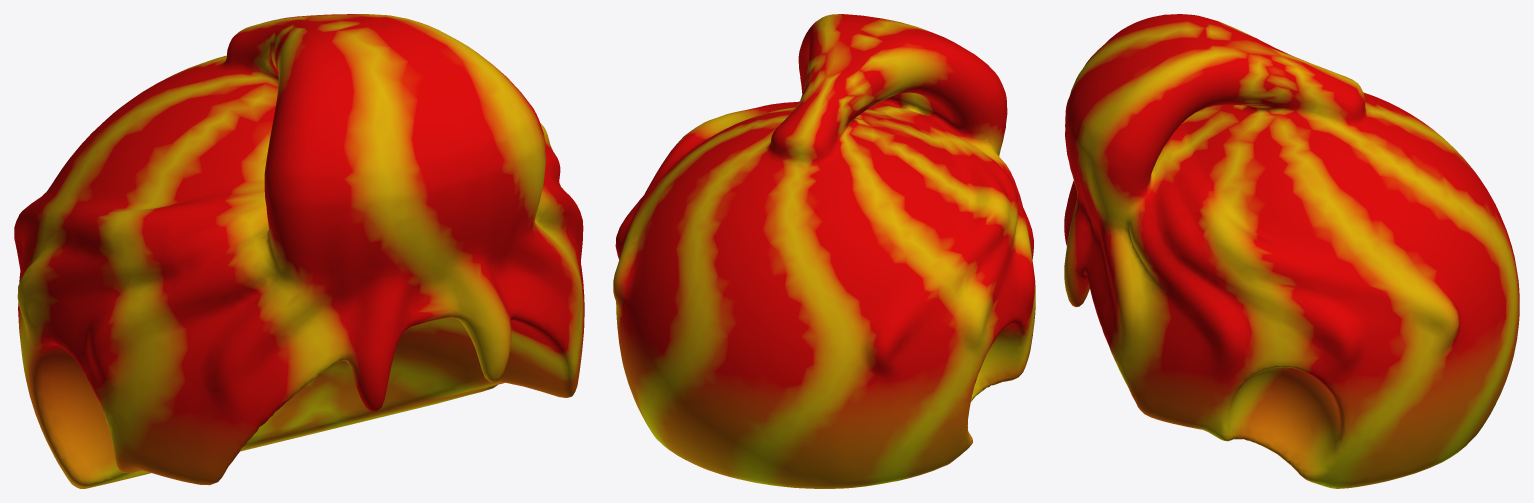
File: pompadour.glb
3 renders of one model, left to right at view 1: azimuth 30°, elevation 25°; view 2: azimuth 150°, elevation 25°; view 3: azimuth 270°, elevation 25°, orthographic. The views are drawn at different scales.
Parts seen in each view (by area): view 1: part; view 2: part; view 3: part.
Boxes of the visible parts, x1,y1,x2,y2 form: part: (14,14,584,488); part: (613,14,1035,488); part: (1064,14,1519,488).
Size of the model in its own units: 2.1 by 1.95 by 2.1.
